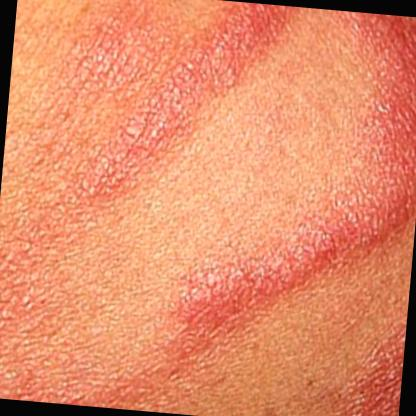Leprosy: (31, 0, 304, 210), (286, 10, 416, 283), (140, 228, 340, 356), (338, 322, 405, 416)
